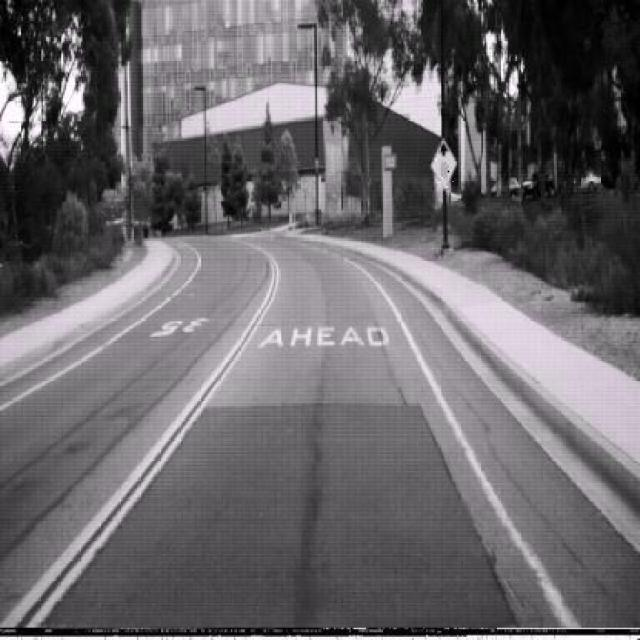stopAhead: (429, 137, 457, 190)
